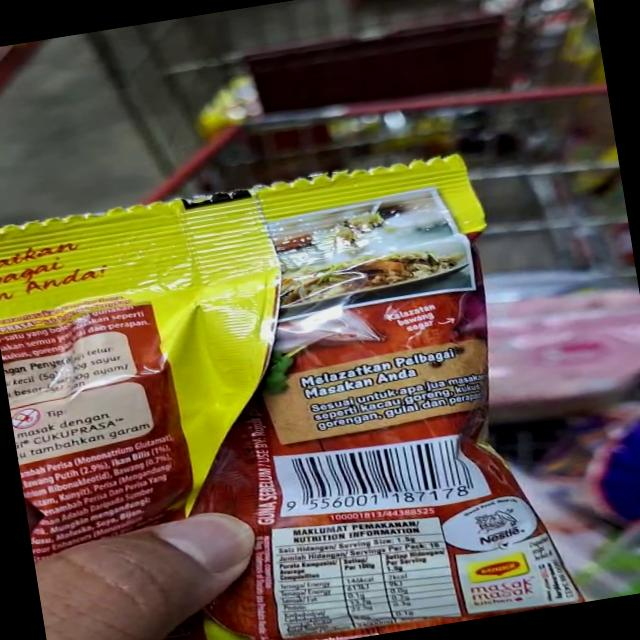Maggi Cukup Rasa: (0, 147, 506, 495), (23, 389, 582, 640)
